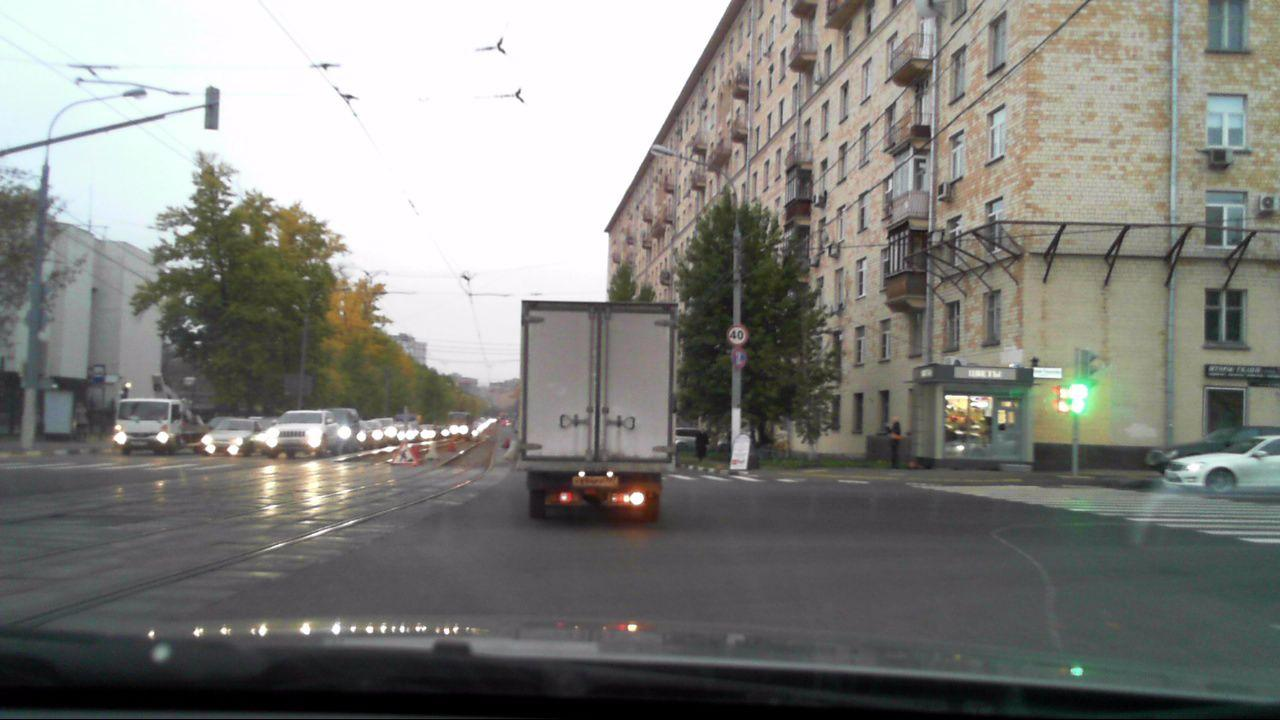1_25: (391, 440, 418, 469)
3_24: (727, 324, 748, 345)
3_30: (730, 346, 747, 367)
